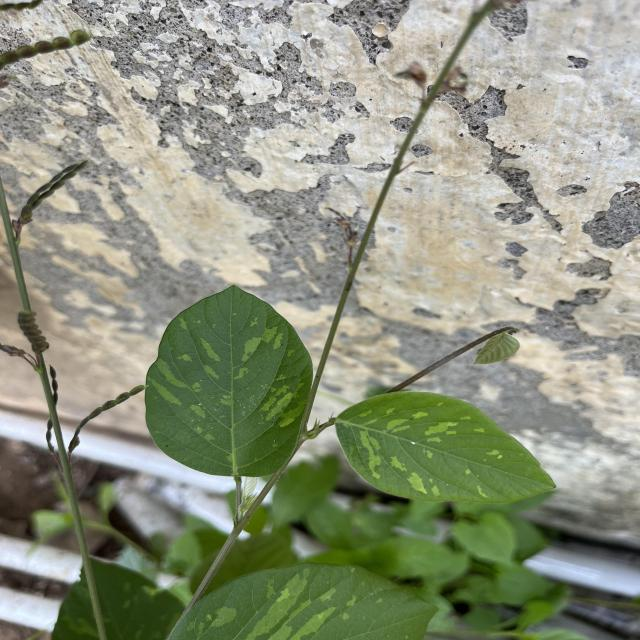Desmodium gangeticum: (141, 280, 317, 480), (332, 388, 559, 505)
